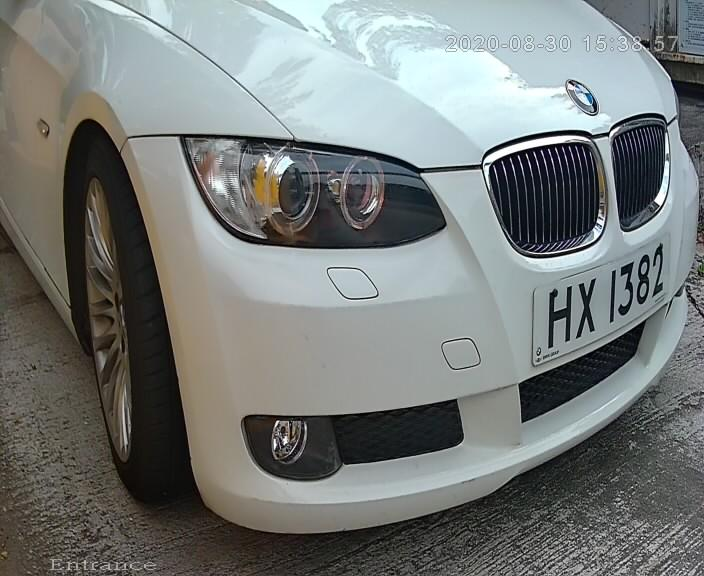Car: (41, 1, 704, 541)
License Plate: (532, 229, 661, 379)
